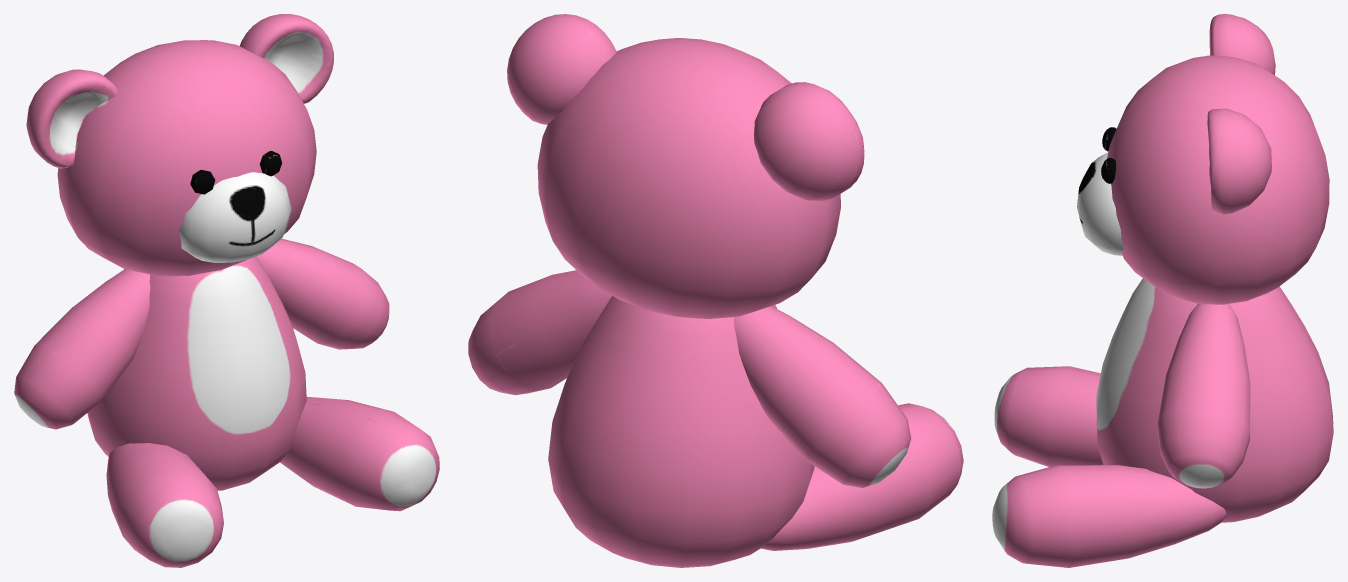
Rendered from teddy bear3.fbx.
3 renders of one model, left to right at view 1: azimuth 30°, elevation 25°; view 2: azimuth 150°, elevation 25°; view 3: azimuth 270°, elevation 25°, orthographic. The views are drawn at different scales.
Visible parts, largest first — view 1: Teddy_Bear_3.001; view 2: Teddy_Bear_3.001; view 3: Teddy_Bear_3.001.
Part boxes in pixels (<box>): Teddy_Bear_3.001: <box>14,14,439,567</box>; Teddy_Bear_3.001: <box>468,14,963,567</box>; Teddy_Bear_3.001: <box>992,14,1333,567</box>.
Bounding box in the file's own units: 196 × 224 × 155.
Materials: 1 (1 with a texture image).
